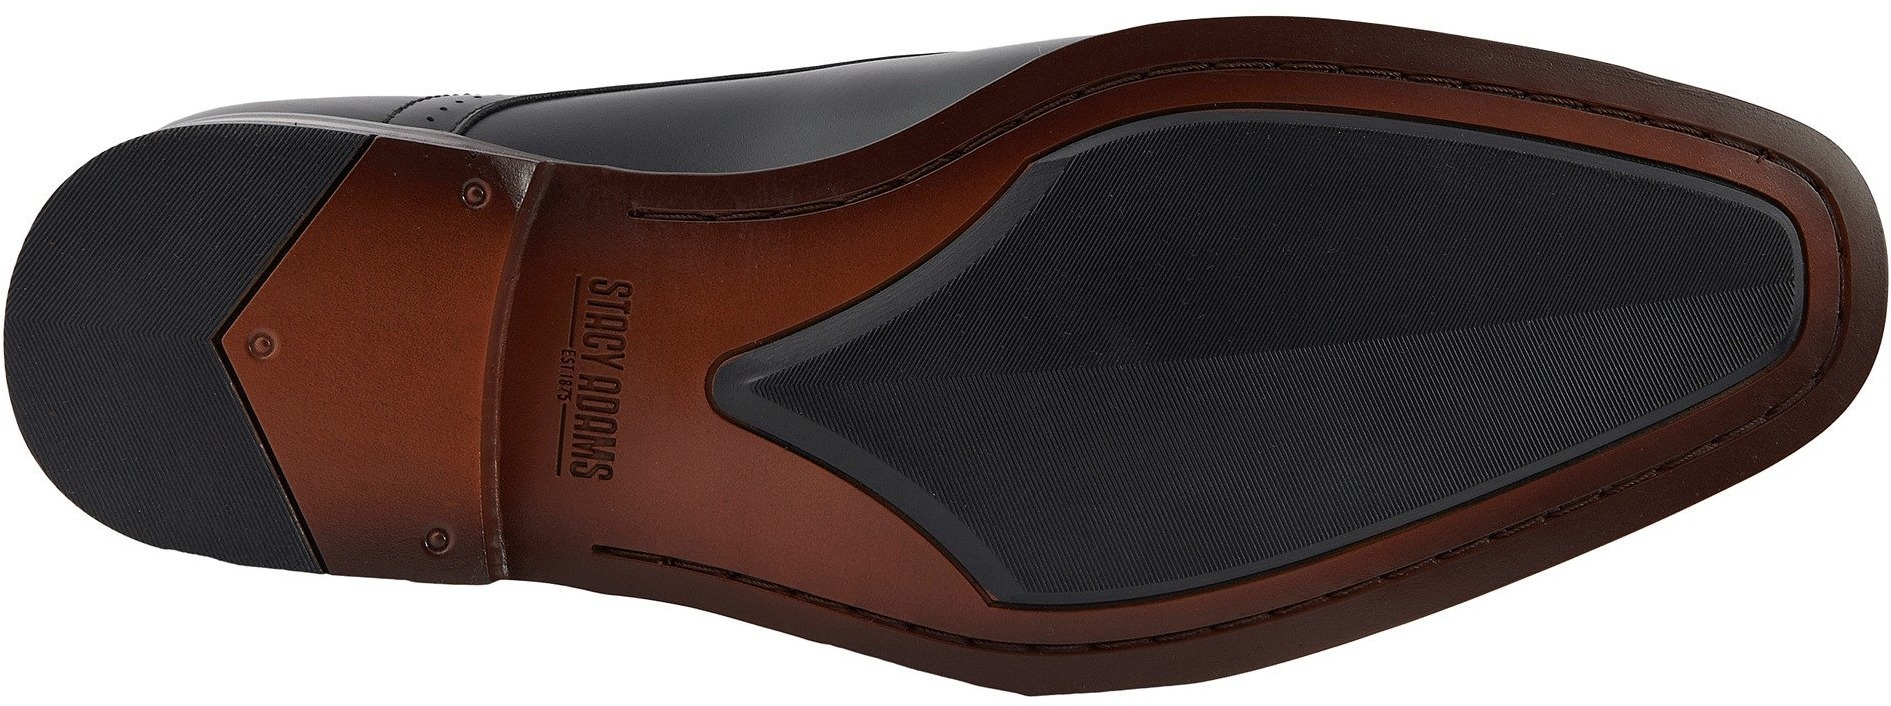circle: (242, 329, 282, 366), (420, 526, 452, 559), (459, 181, 494, 210)
